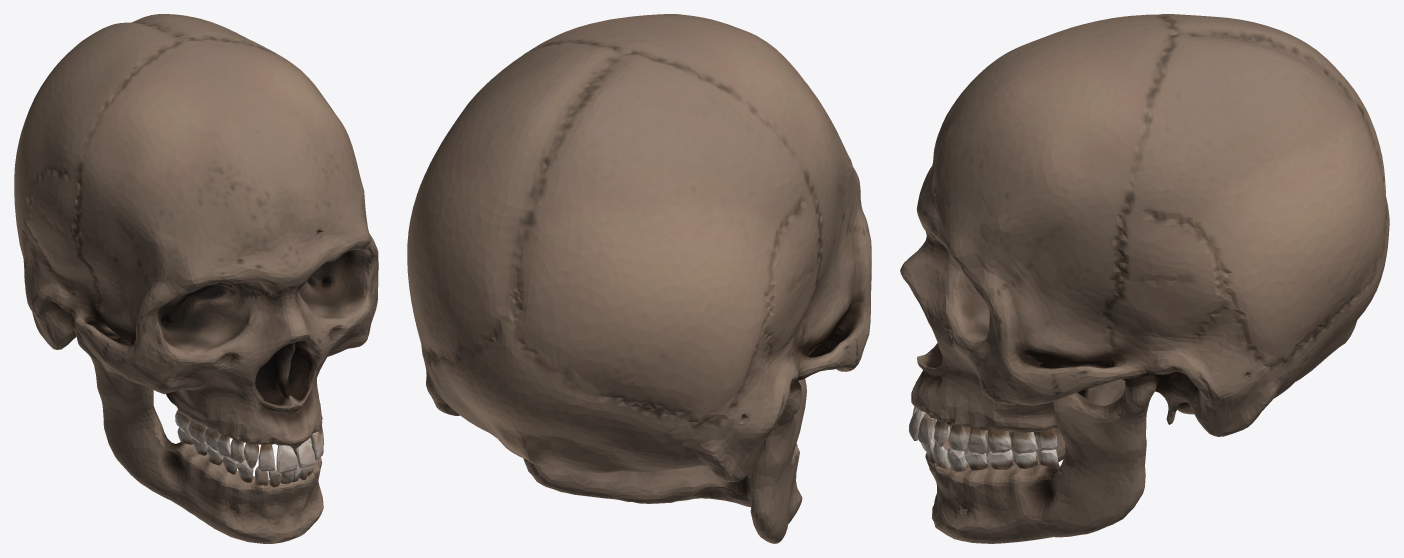
Rendered from cranio.obj.
3 renders of one model, left to right at view 1: azimuth 30°, elevation 25°; view 2: azimuth 150°, elevation 25°; view 3: azimuth 270°, elevation 25°, orthographic. The views are drawn at different scales.
Parts seen in each view (by area): view 1: craneo; view 2: craneo; view 3: craneo.
Boxes of the visible parts, bbox=[...] form: craneo: bbox=[14, 14, 378, 543]; craneo: bbox=[407, 14, 871, 543]; craneo: bbox=[900, 14, 1389, 543].
Size of the model in its own units: 1.34 by 2 by 1.79.
1 material, 1 textured.
